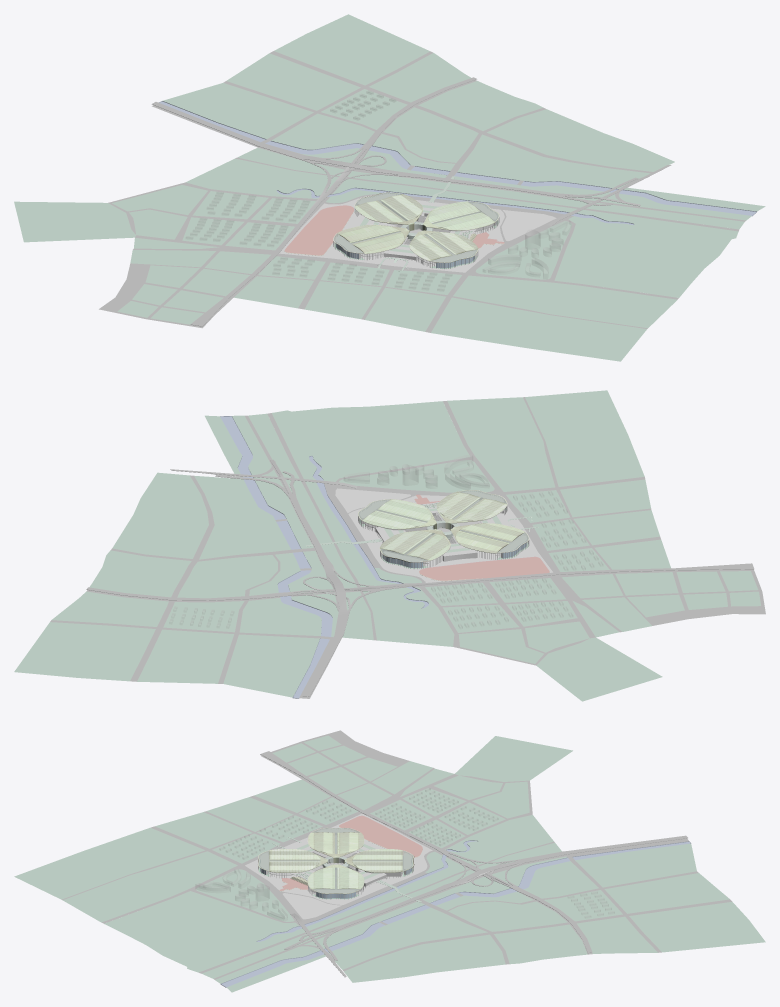
Rendered from outdoor.fbx.
3 renders of one model, top to bottom at view 1: azimuth 30°, elevation 25°; view 2: azimuth 150°, elevation 25°; view 3: azimuth 270°, elevation 25°, orthographic. The views are drawn at different scales.
Parts seen in each view (by area): view 1: polySurface123, polySurface100, roof, polySurface42, polySurface134, polySurface112, northGroundSection, northGround, polySurface21; view 2: polySurface123, polySurface100, roof, polySurface42, polySurface134, polySurface112, northGroundSection, northGround, polySurface21; view 3: polySurface123, polySurface100, roof, polySurface42, polySurface134, polySurface112, northGroundSection, northGround, polySurface21.
Boxes of the visible parts, x1,y1,x2,y2 form: polySurface123: [14, 14, 765, 361]; polySurface100: [99, 51, 745, 332]; roof: [333, 192, 499, 263]; polySurface42: [152, 77, 640, 326]; polySurface134: [279, 195, 556, 272]; polySurface112: [159, 101, 756, 216]; northGroundSection: [284, 205, 353, 255]; northGround: [284, 206, 353, 255]; polySurface21: [276, 187, 634, 225]; polySurface123: [14, 390, 760, 701]; polySurface100: [50, 397, 765, 698]; roof: [358, 490, 529, 562]; polySurface42: [86, 459, 754, 696]; polySurface134: [335, 488, 552, 582]; polySurface112: [220, 416, 332, 698]; northGroundSection: [419, 556, 549, 580]; northGround: [419, 557, 549, 581]; polySurface21: [309, 456, 428, 608]; polySurface123: [14, 735, 765, 992]; polySurface100: [62, 730, 731, 979]; roof: [258, 827, 414, 894]; polySurface42: [260, 751, 687, 960]; polySurface134: [245, 813, 432, 919]; polySurface112: [220, 841, 690, 987]; northGroundSection: [339, 815, 422, 856]; northGround: [339, 816, 422, 857]; polySurface21: [256, 840, 477, 941].
Bounding box in the file's own units: 114 × 3.75 × 139.
Materials: 20 (1 with a texture image).
